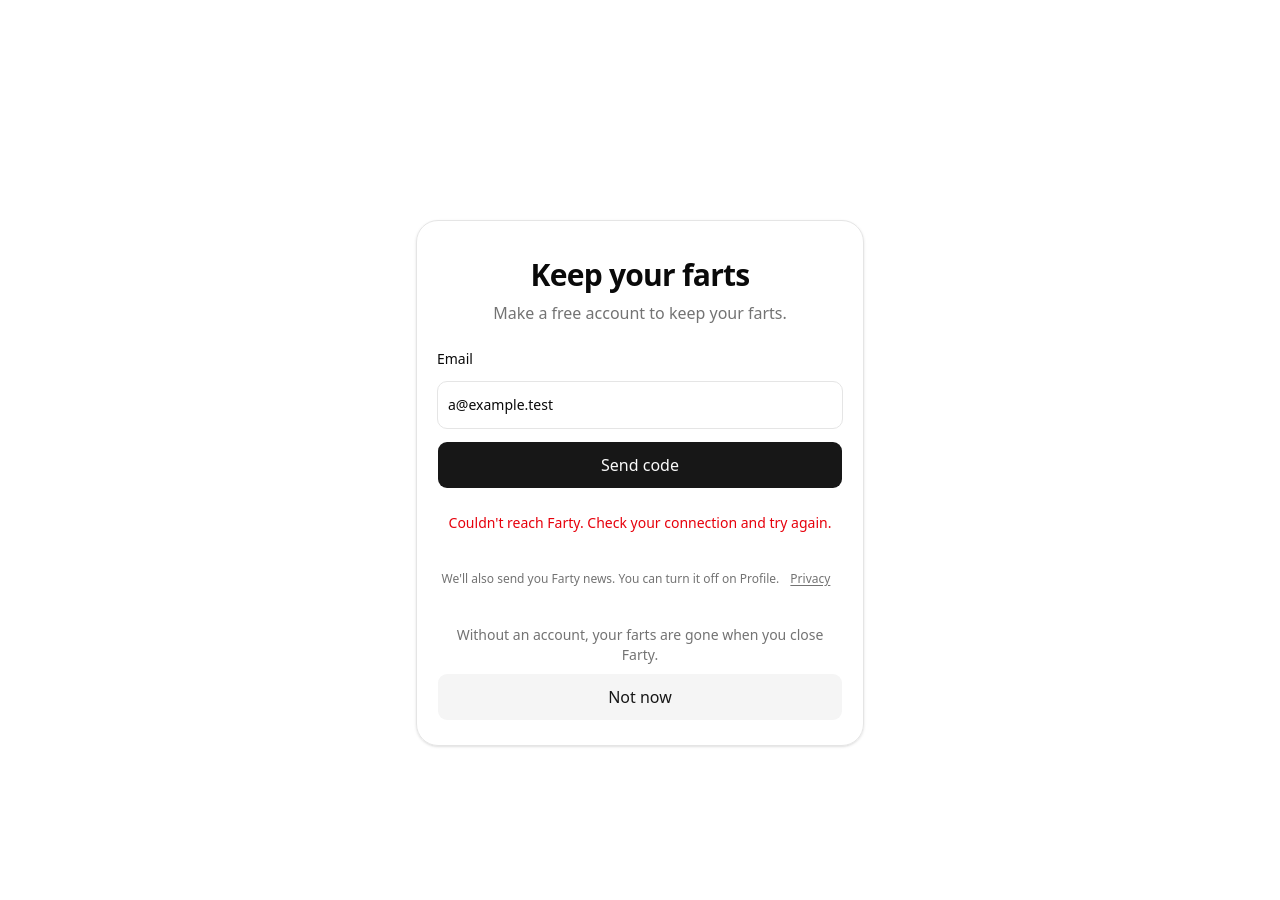
Test: Send code and Turnstile › reads the site key again on a tap when it couldn't be read
Click the button "Send code".
click(640, 464)  # box [437, 440, 843, 488]
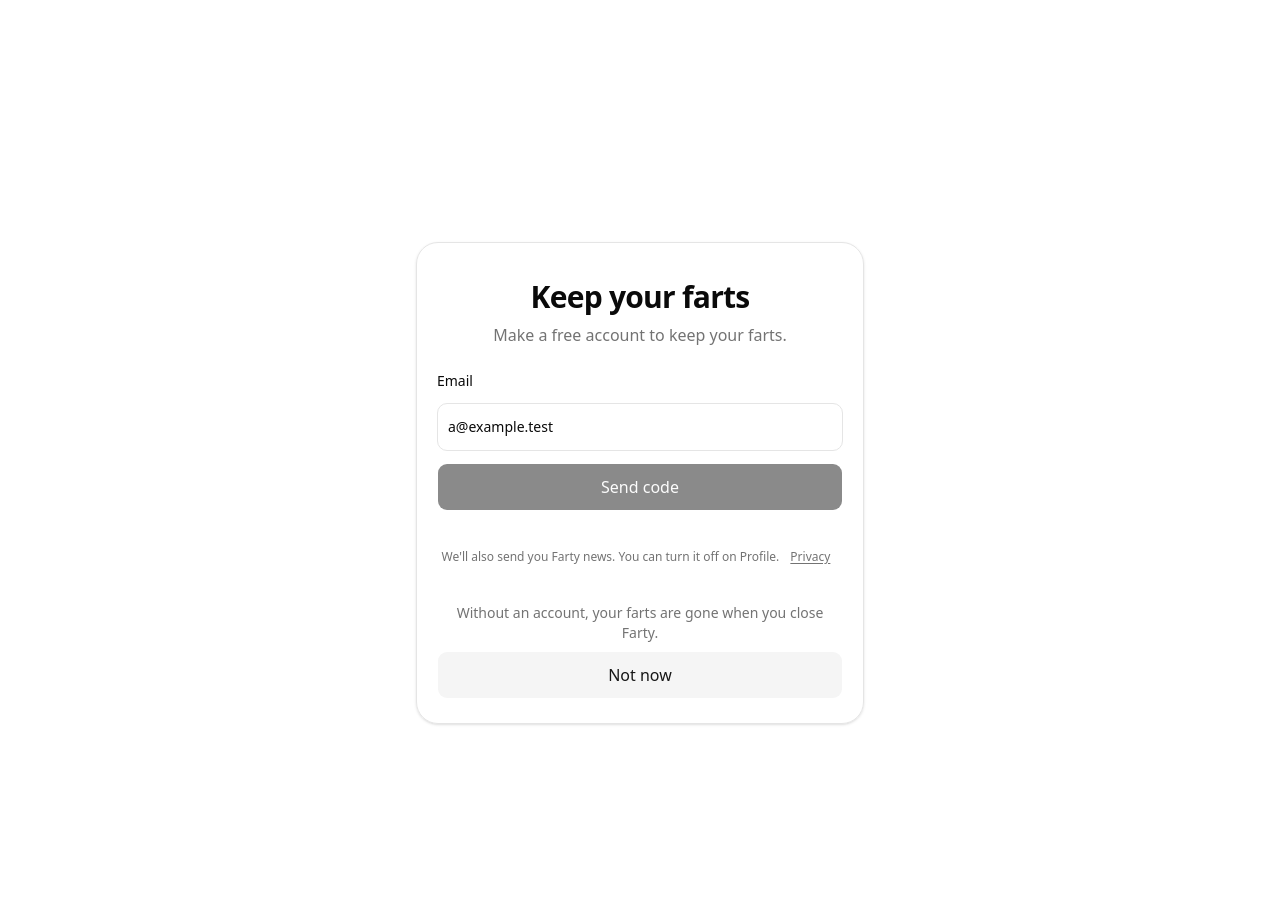
Expected: the message "Couldn't reach Farty. Check your connection and try again." is gone
Expected: the button "Send code" is disabled, [437, 462, 843, 510]
